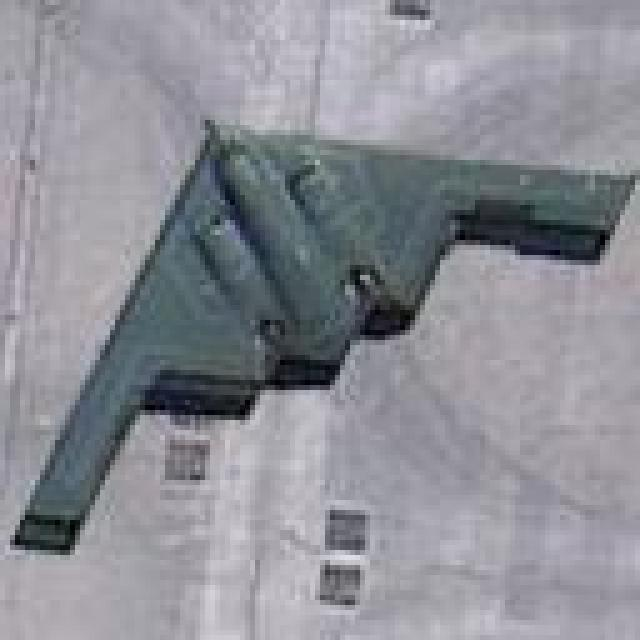B-2_TopDown: (5, 110, 635, 555)
